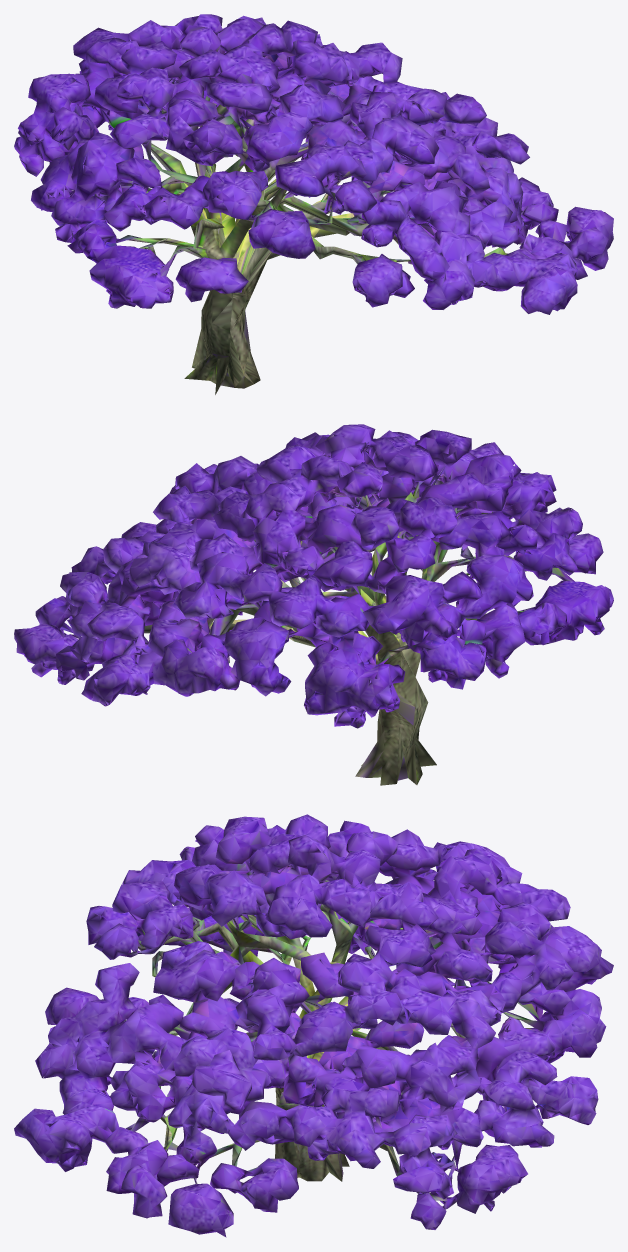
Rendered from JacarandaTree_Left_LOD1.fbx.
3 renders of one model, top to bottom at view 1: azimuth 30°, elevation 25°; view 2: azimuth 150°, elevation 25°; view 3: azimuth 270°, elevation 25°, orthographic. The views are drawn at different scales.
Parts seen in each view (by area): view 1: mesh_node; view 2: mesh_node; view 3: mesh_node.
Part boxes in pixels (x1,y1,x2,y2): mesh_node: (14,14,613,394); mesh_node: (14,424,613,785); mesh_node: (14,814,613,1237).
Size of the model in its own units: 13.83 by 9 by 13.86.
Materials: 1 (1 with a texture image).
